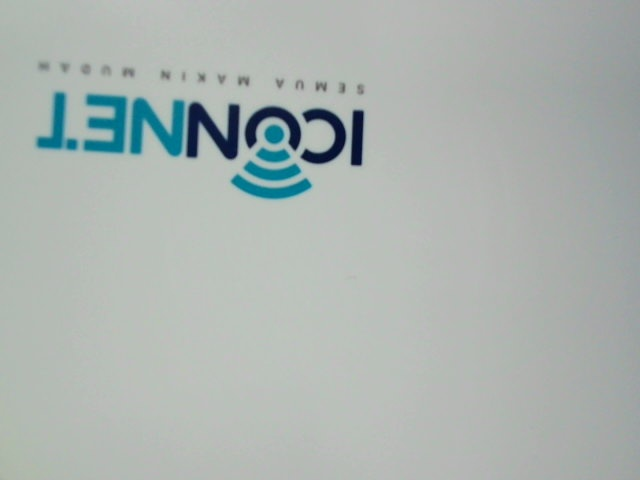BM_ICONNET: (23, 51, 382, 215)
